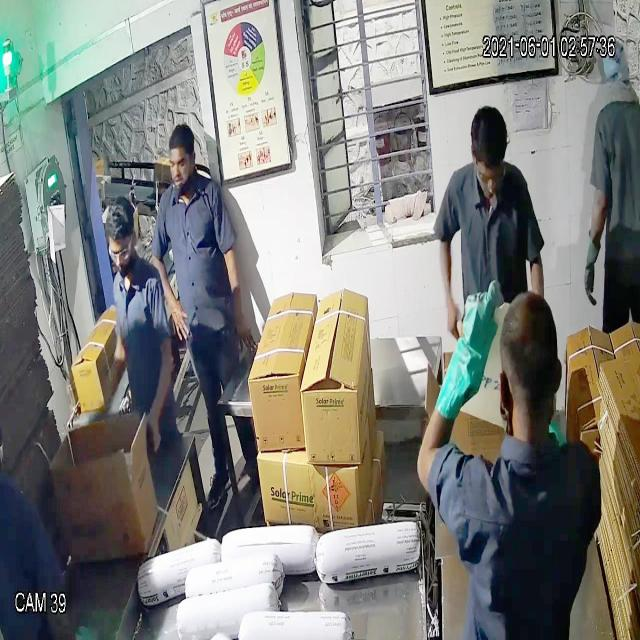glasses: (105, 234, 139, 268)
